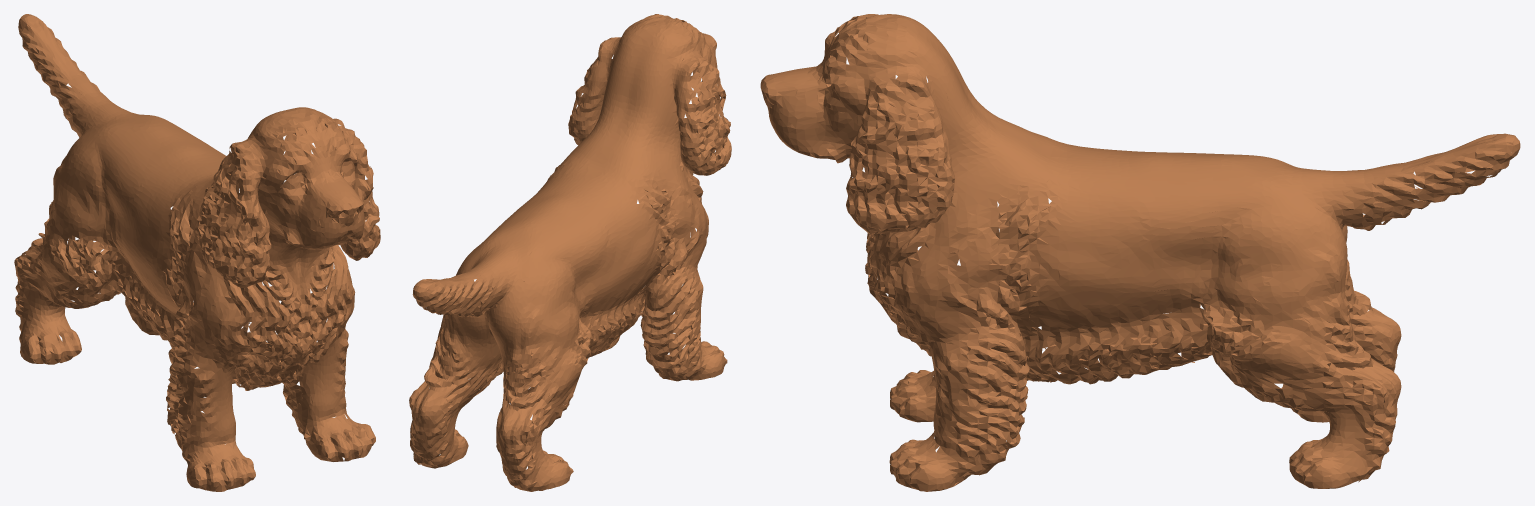
File: cocker-real-stand.glb
The picture shows the model from 3 angles, left to right: view 1: azimuth 30°, elevation 25°; view 2: azimuth 150°, elevation 25°; view 3: azimuth 270°, elevation 25°; orthographic projection. The views are drawn at different scales.
Parts seen in each view (by area): view 1: CockerRealStand; view 2: CockerRealStand; view 3: CockerRealStand.
Boxes of the visible parts, bbox=[...] form: CockerRealStand: bbox=[14, 14, 380, 491]; CockerRealStand: bbox=[409, 14, 731, 491]; CockerRealStand: bbox=[760, 14, 1520, 491].
Size of the model in its own units: 0.3463 by 0.6732 by 1.1.
